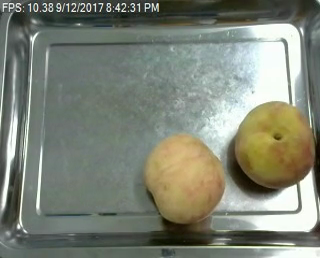Peach: (143, 133, 226, 224), (234, 100, 316, 189)
